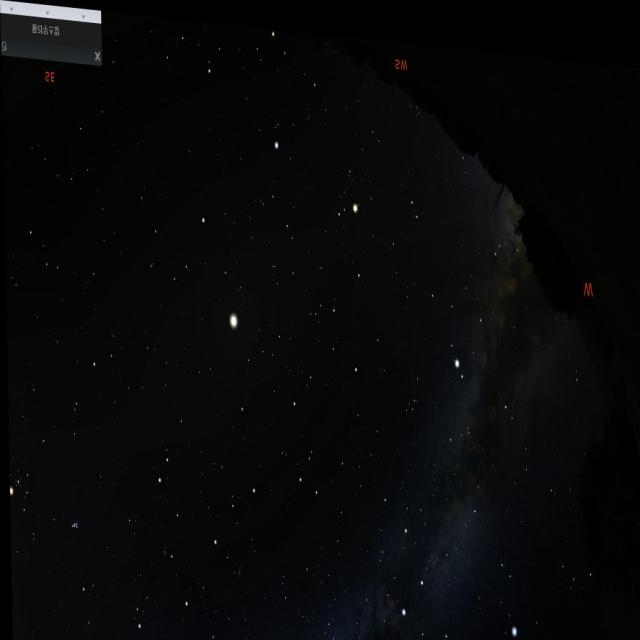aquila: (426, 220, 514, 370)
cygnus: (390, 490, 477, 640)
lyra: (493, 540, 522, 640)
pleiades: (62, 505, 84, 537)
taurus: (7, 424, 89, 550)
